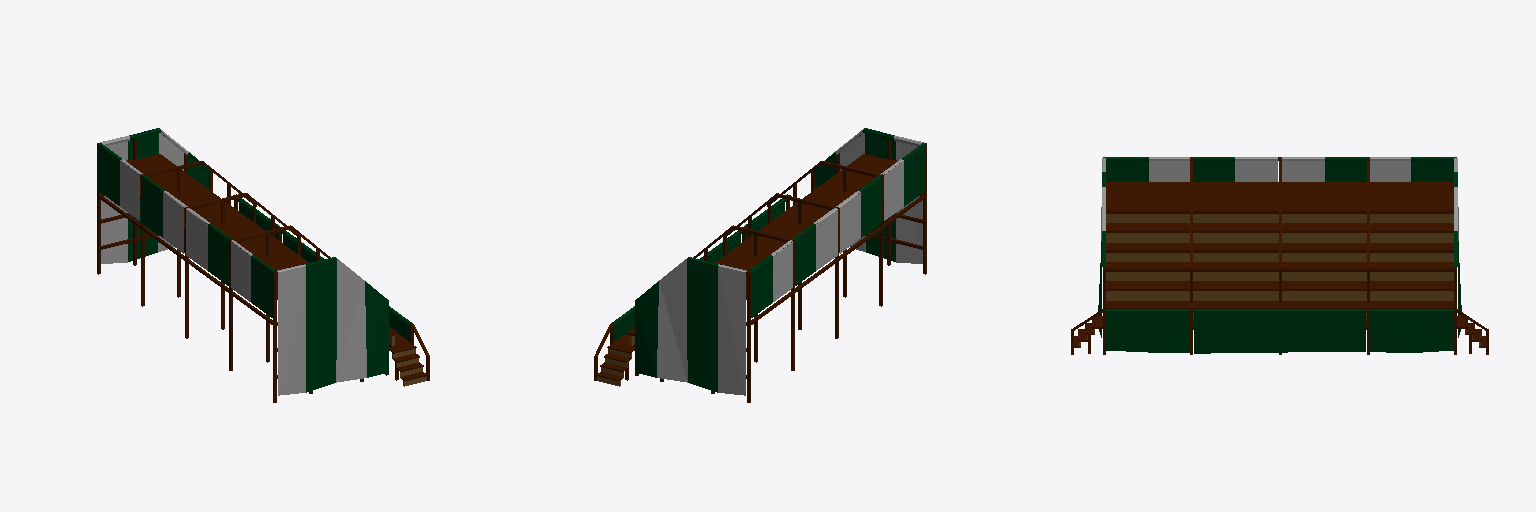
File: Platform_green_white.obj
3 renders of one model, left to right at view 1: azimuth 30°, elevation 25°; view 2: azimuth 150°, elevation 25°; view 3: azimuth 270°, elevation 25°, orthographic.
Visible parts, largest first — view 1: Platform_01; view 2: Platform_01; view 3: Platform_01.
Part boxes in pixels (bbox=[...]): Platform_01: bbox=[97, 128, 429, 402]; Platform_01: bbox=[594, 128, 926, 402]; Platform_01: bbox=[1071, 157, 1488, 354].
Bounding box in the file's own units: 5.63 × 4.96 × 14.4.